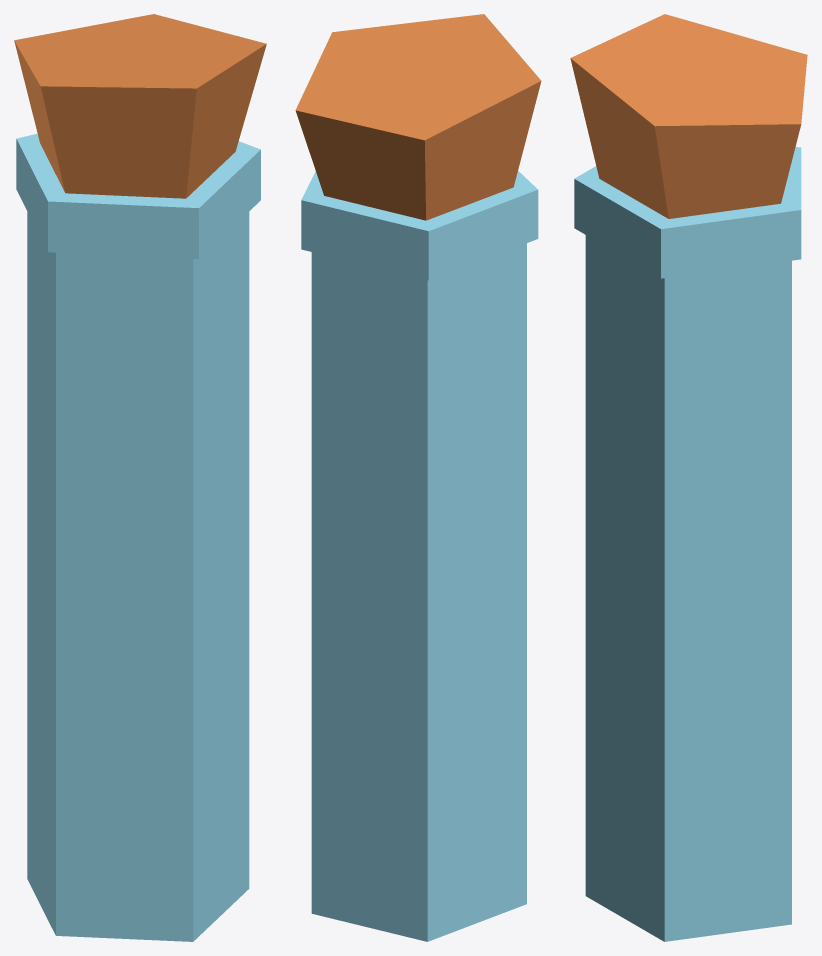
The model's file is Ampule_1.fbx.
3 renders of one model, left to right at view 1: azimuth 30°, elevation 25°; view 2: azimuth 150°, elevation 25°; view 3: azimuth 270°, elevation 25°, orthographic. The views are drawn at different scales.
Visible parts, largest first — view 1: Cube.007; view 2: Cube.007; view 3: Cube.007.
Boxes of the visible parts, left/top/right/bottom form: Cube.007: left=14, top=14, right=266, bottom=941; Cube.007: left=295, top=14, right=541, bottom=941; Cube.007: left=570, top=14, right=807, bottom=941.
Bounding box in the file's own units: 9.23 × 34.34 × 8.83.
